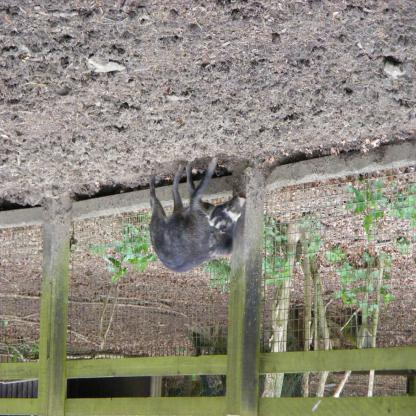boar: (150, 157, 246, 274)
